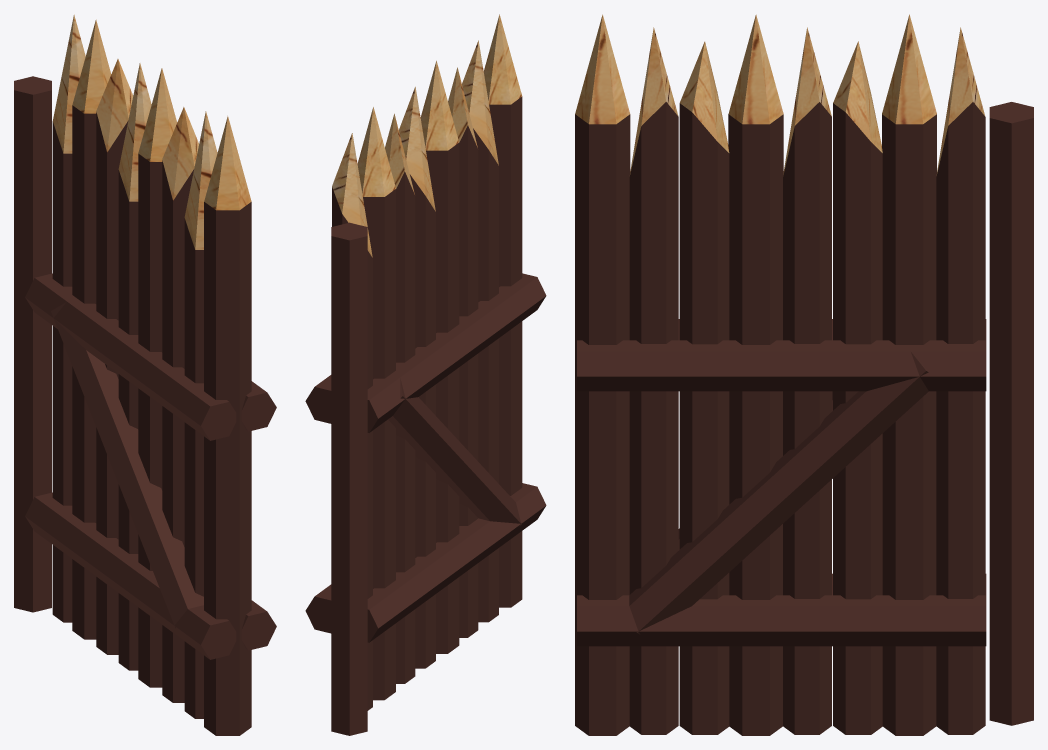
The model's file is Door_01.fbx.
3 views of the same model, side by side, from view 1: azimuth 30°, elevation 25°; view 2: azimuth 150°, elevation 25°; view 3: azimuth 270°, elevation 25° (orthographic). The views are drawn at different scales.
Parts seen in each view (by area): view 1: Door_01; view 2: Door_01; view 3: Door_01.
Part boxes in pixels (box(x1,y1,x2,y2)): Door_01: box(14, 14, 276, 735); Door_01: box(305, 14, 546, 735); Door_01: box(575, 14, 1033, 735).
Bounding box in the file's own units: 76 × 584 × 341.
